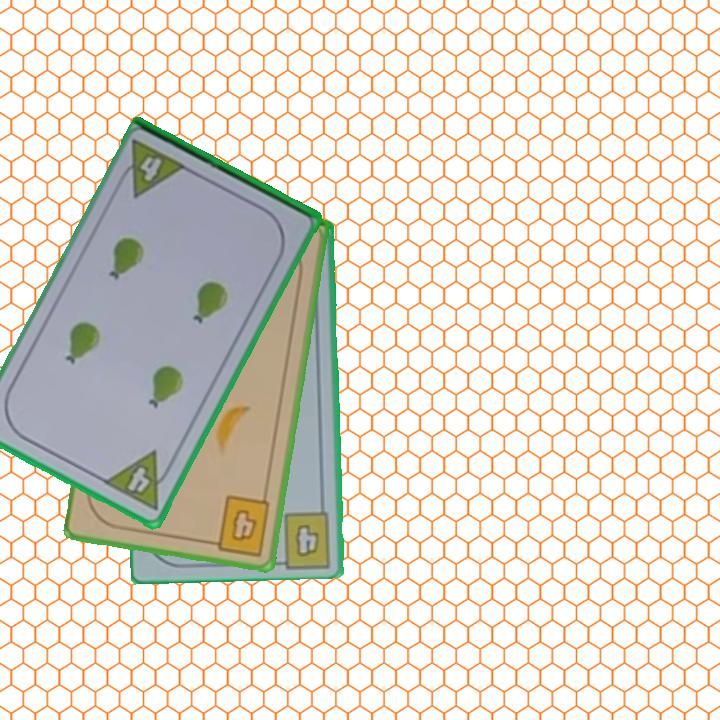4b: (204, 492, 273, 559), (292, 521, 323, 560)
4p: (100, 447, 178, 514), (113, 136, 191, 200)
